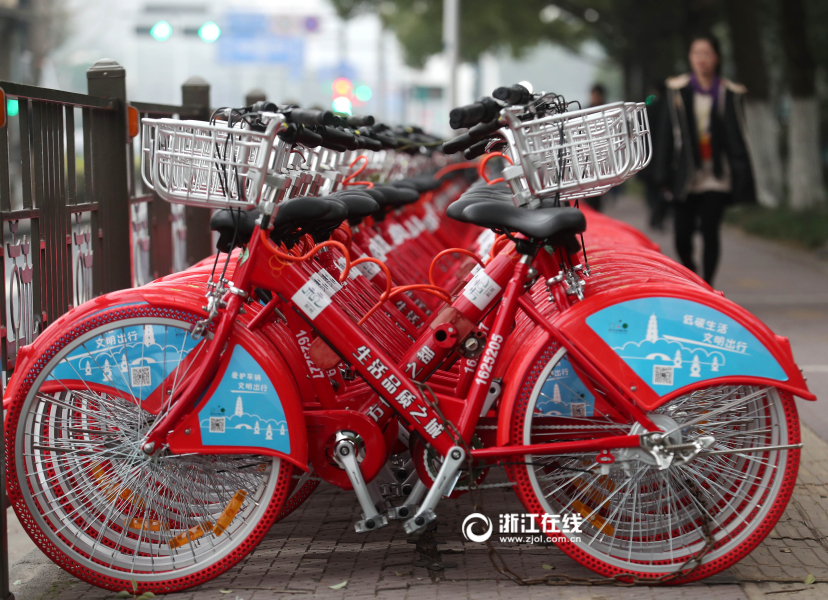MNV: (8, 119, 806, 583)
